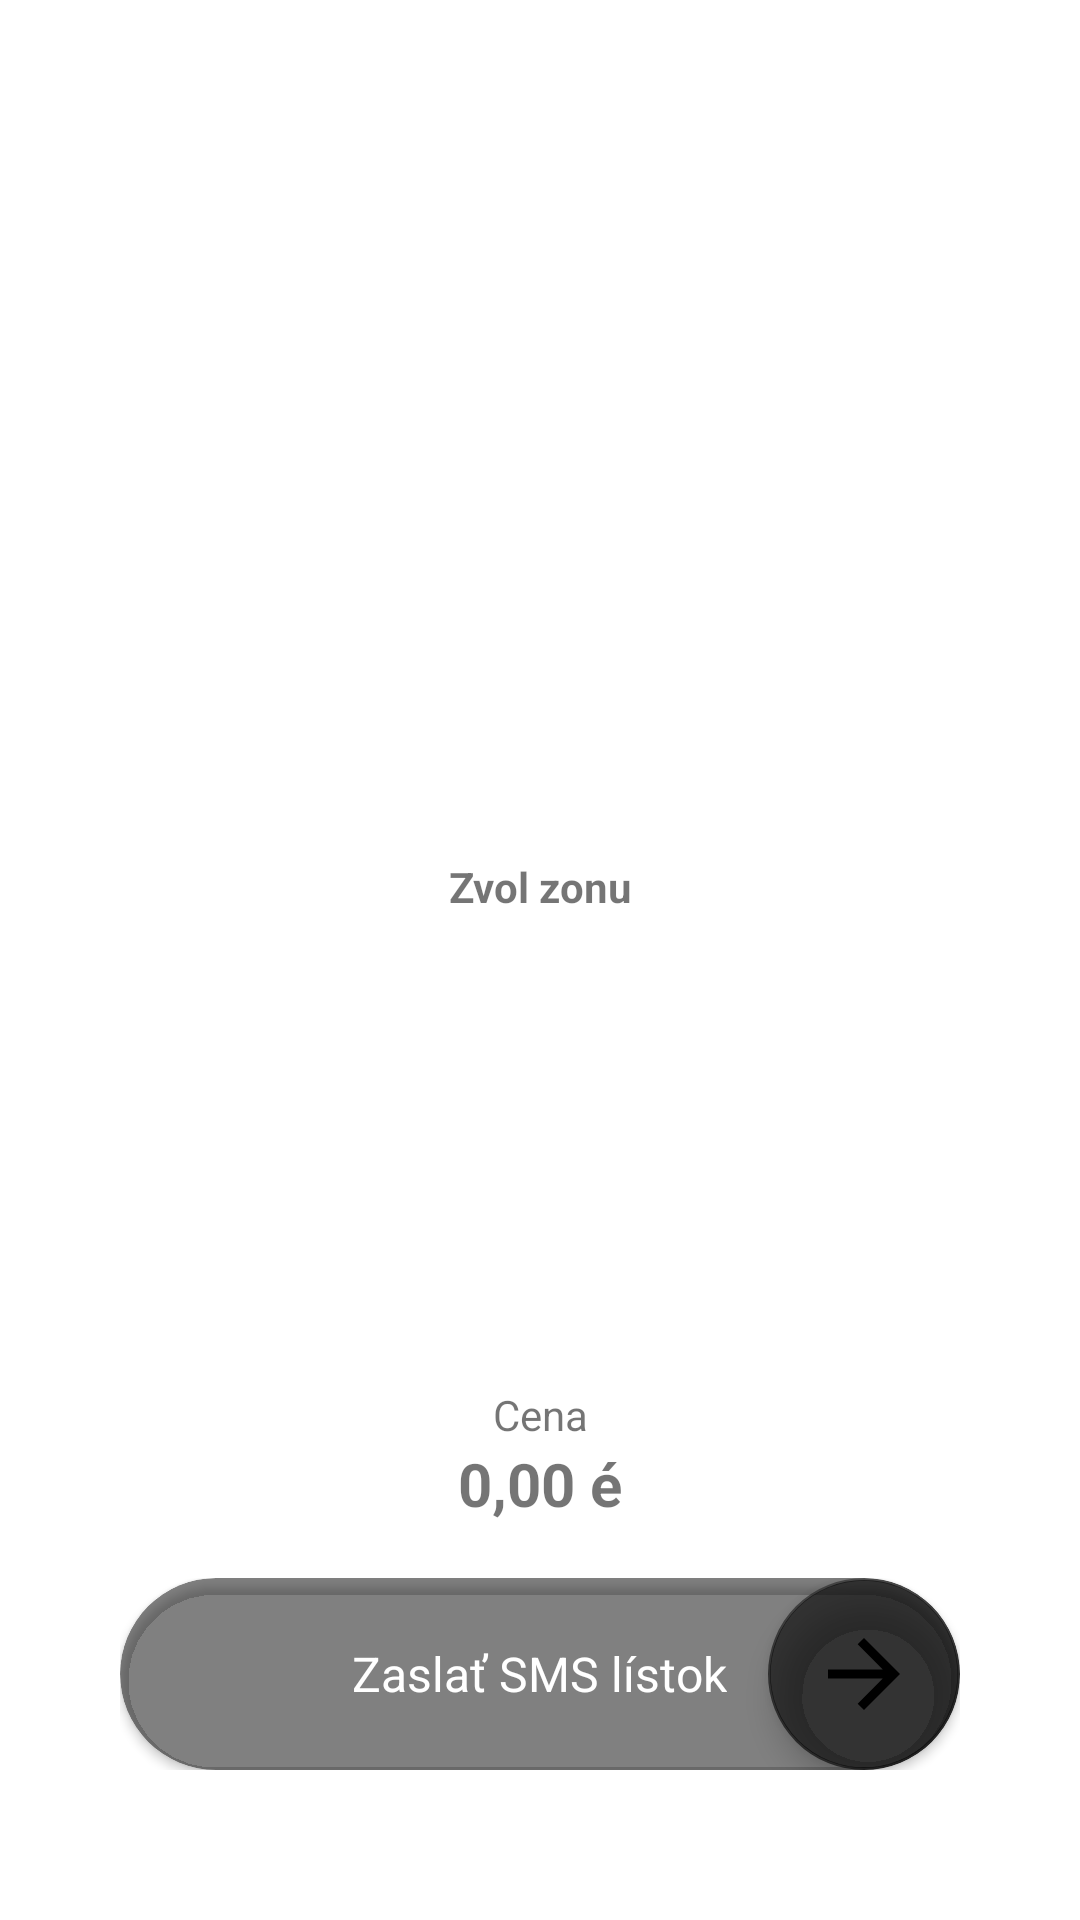

Screen size 1080×1920. Icon name, then its center in pixels as [x,y]:
Next: [864,1674]
